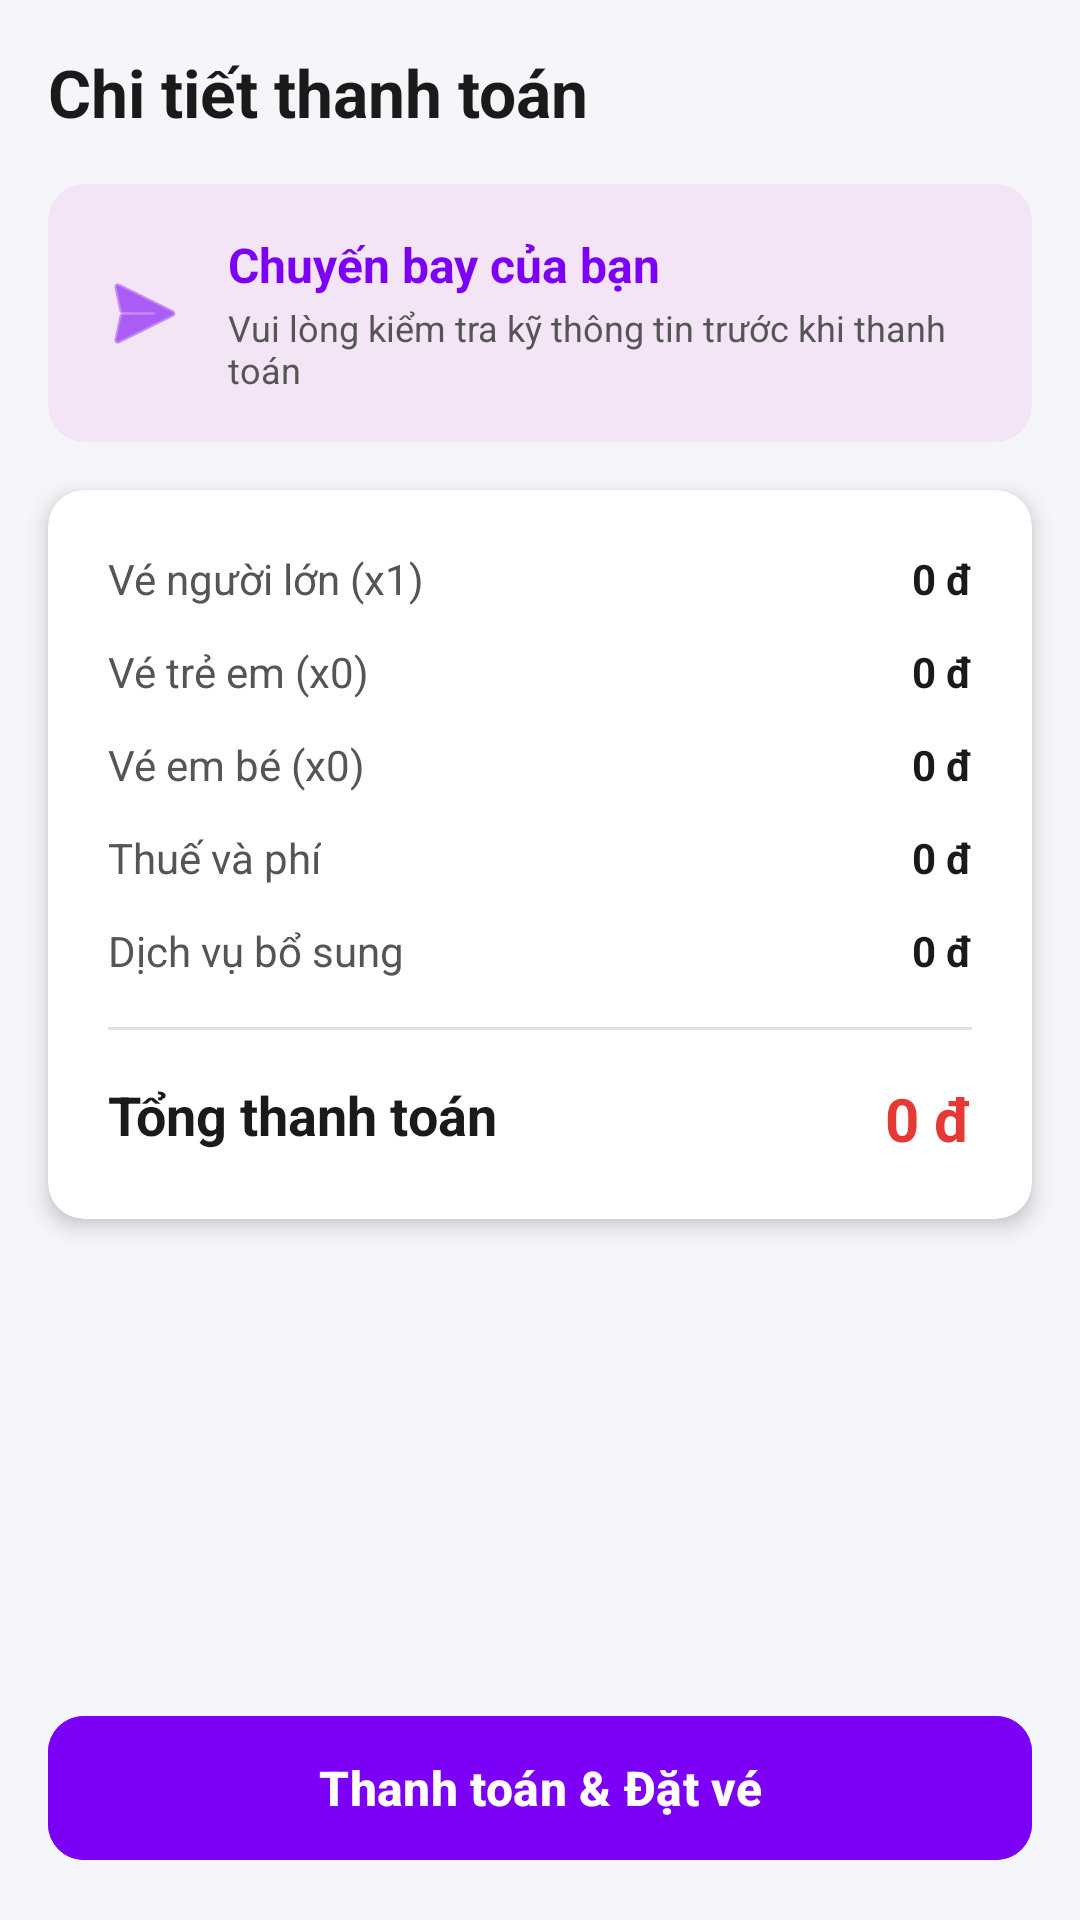

Icon click points for this 1080×1920 phone screenshot, format [x,y]:
send: [145,313]
